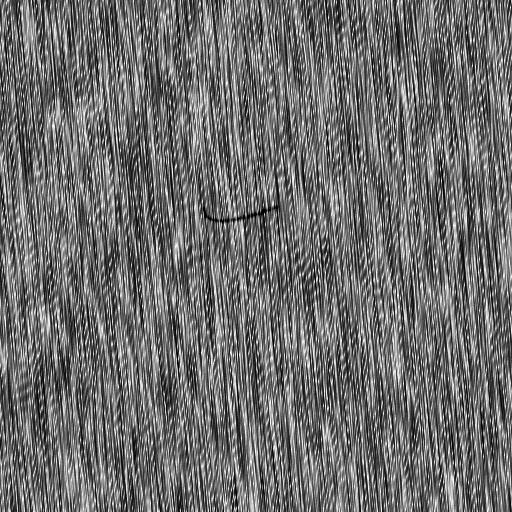DefectTypeC: (199, 203, 283, 224)
